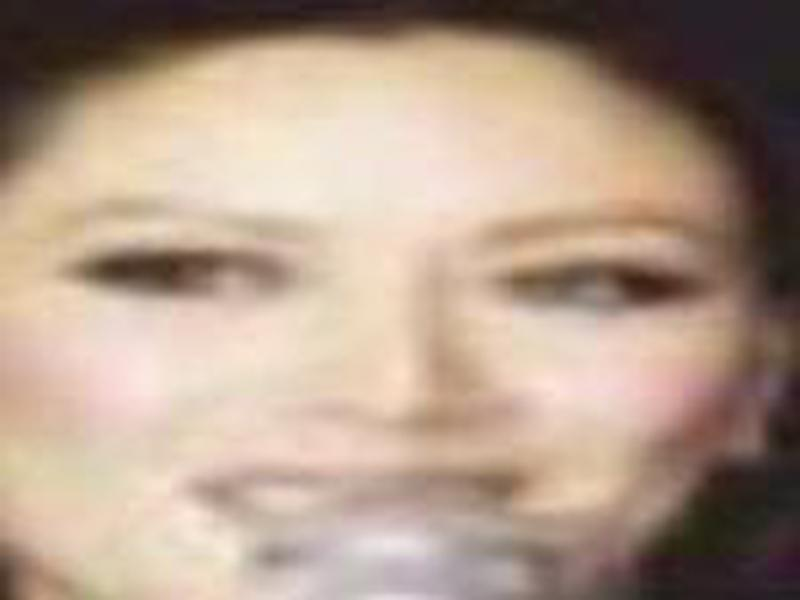without_mask: (4, 36, 757, 600)
